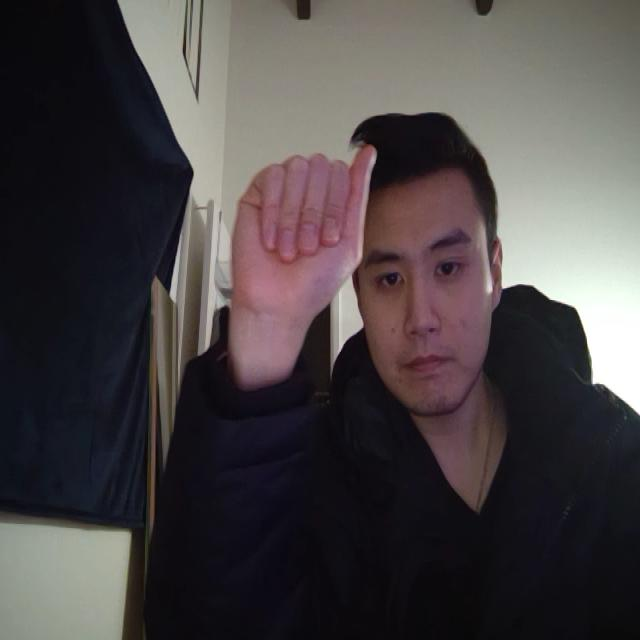A: (216, 103, 393, 397)
